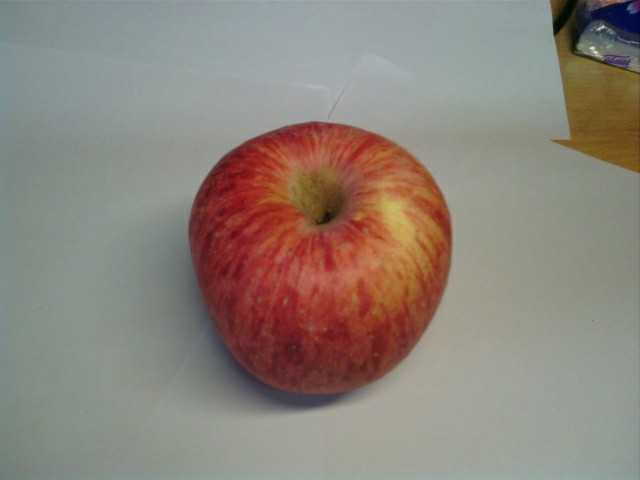normal_apple: (187, 122, 453, 396)
